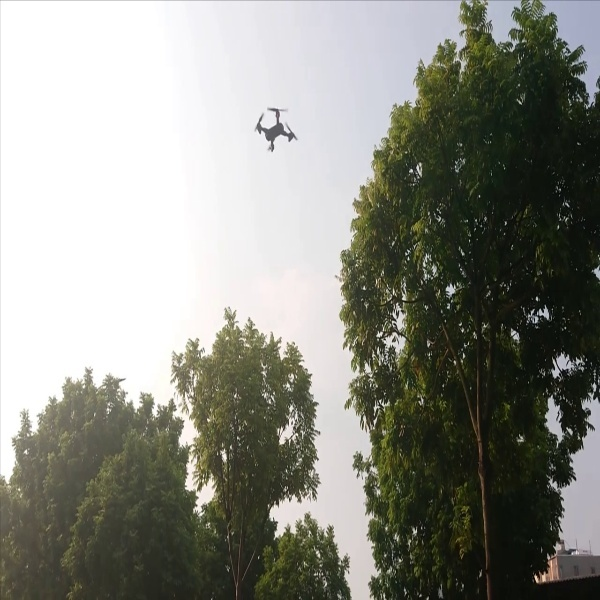drone: (251, 99, 304, 158)
